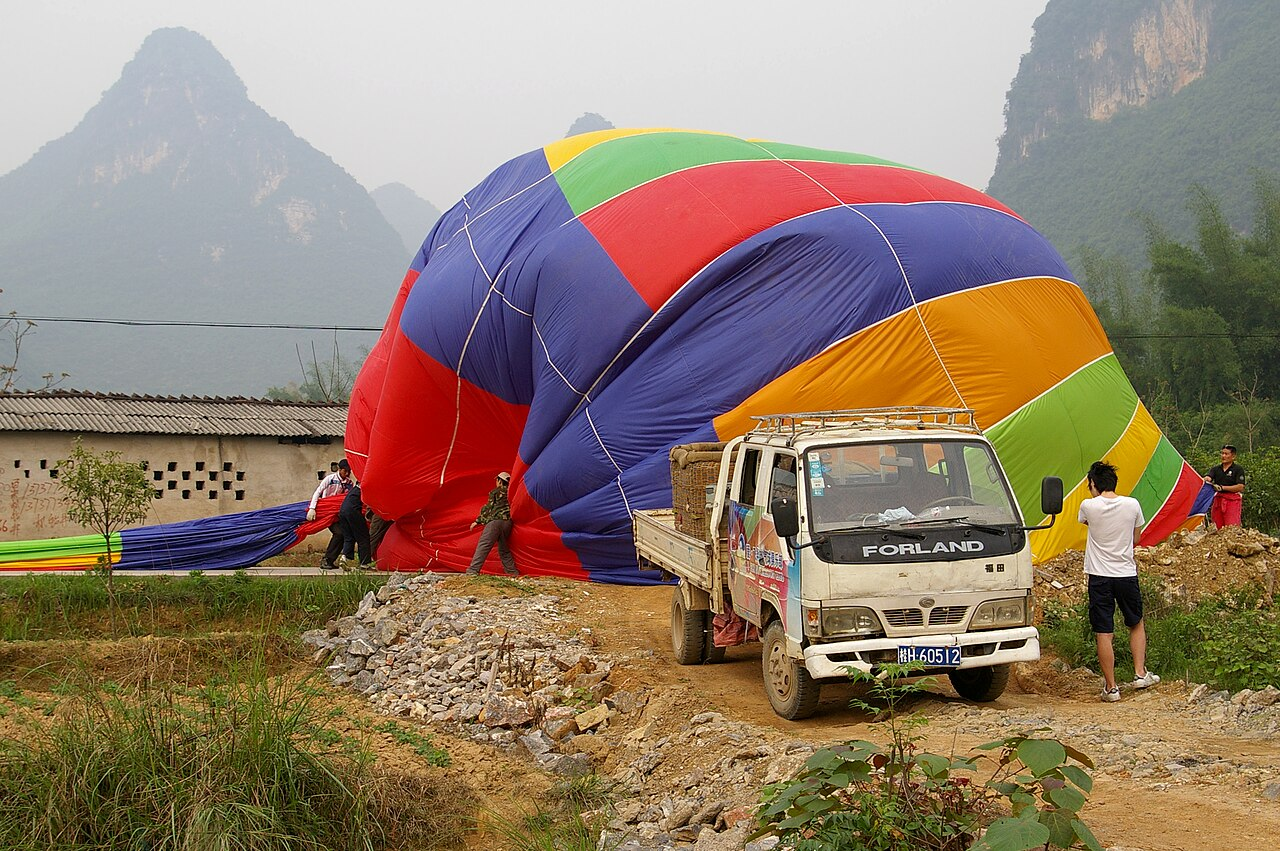balloon: (0, 112, 1204, 590)
